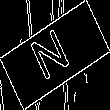N_SE: (30, 23, 80, 87)
